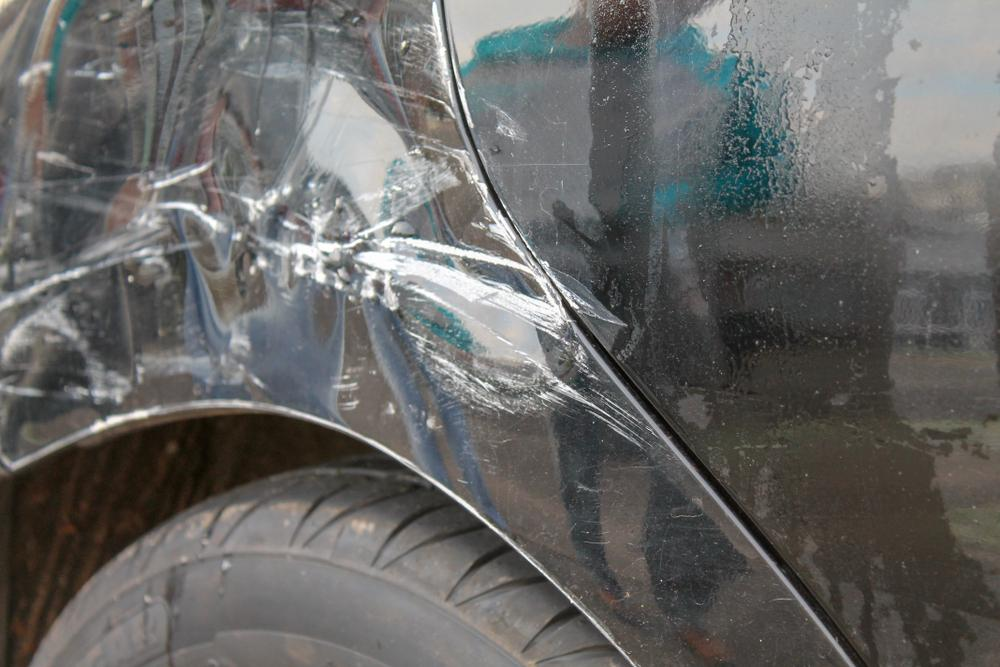scratch: (0, 0, 671, 462)
